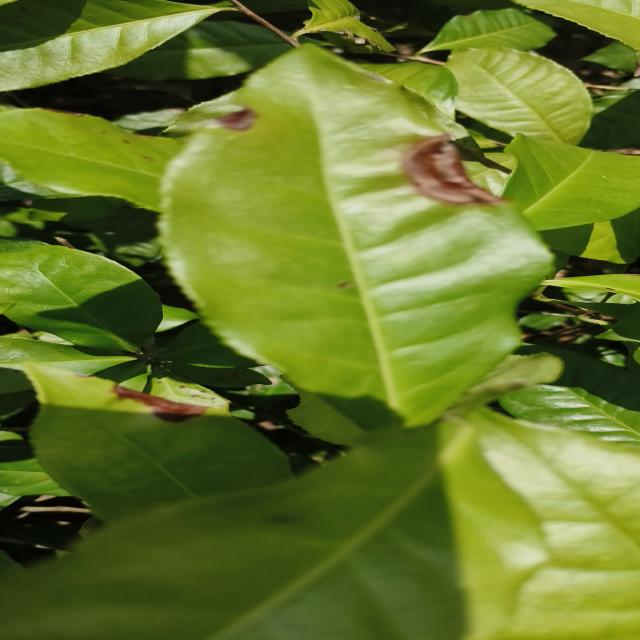Leaf: (160, 45, 551, 428), (0, 423, 548, 640), (25, 362, 291, 521), (474, 421, 640, 640), (0, 0, 222, 91), (0, 109, 180, 211), (0, 245, 162, 355), (445, 48, 591, 144), (498, 346, 640, 442), (502, 133, 640, 231), (113, 21, 290, 80), (0, 337, 134, 394), (418, 8, 555, 53), (162, 322, 258, 368)
